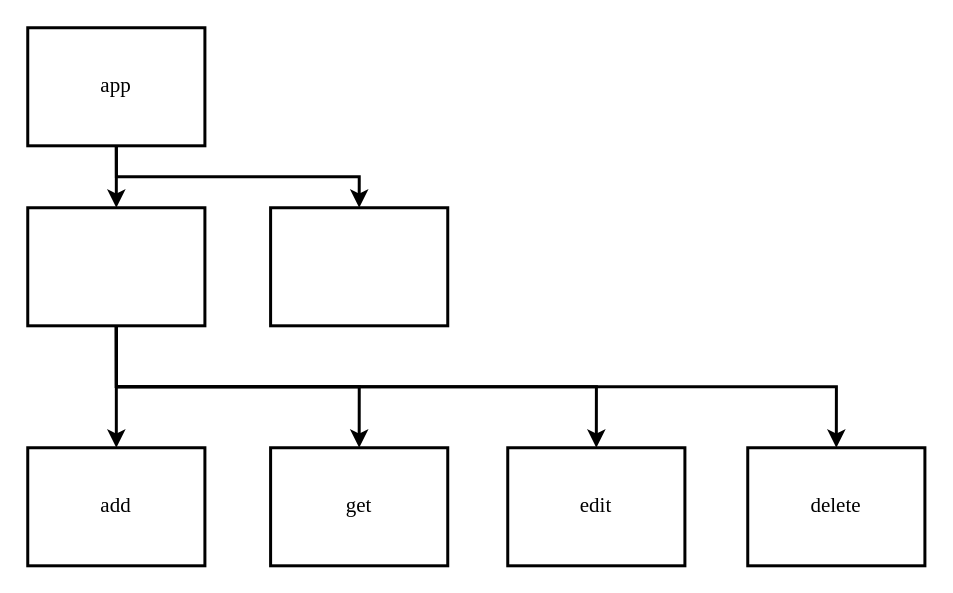
The diagram is 953 pixels wide and 593 high, and some of its shapes have lost their labels. Here are the shapes that lost their labels. From the top down, the centre of each, then its label:
(x=116, y=266): products
(x=358, y=266): singin
